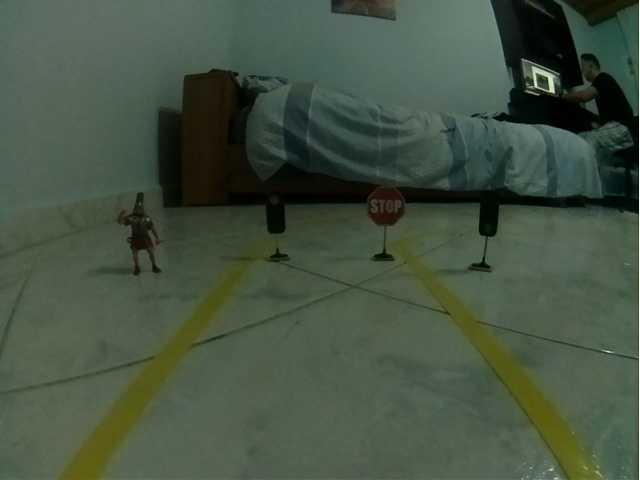Green Traffic Light: (479, 190, 499, 237)
Person: (117, 192, 164, 276)
Red Traffic Light: (266, 188, 286, 233)
Stop: (367, 187, 405, 226)
